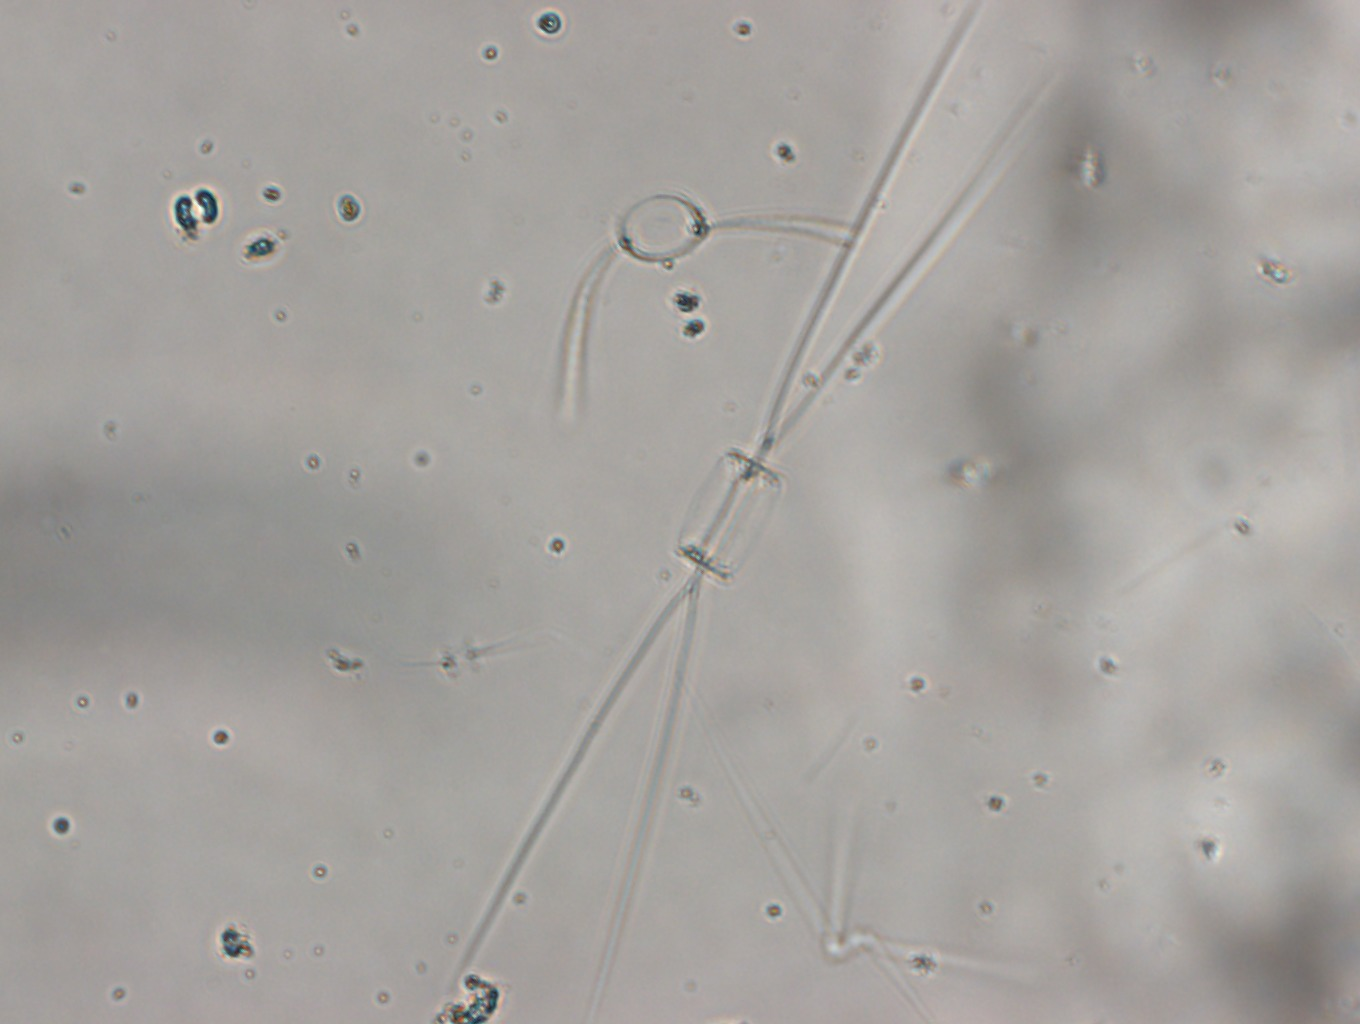chaetoceros: (428, 6, 1063, 1016), (513, 179, 867, 419)
